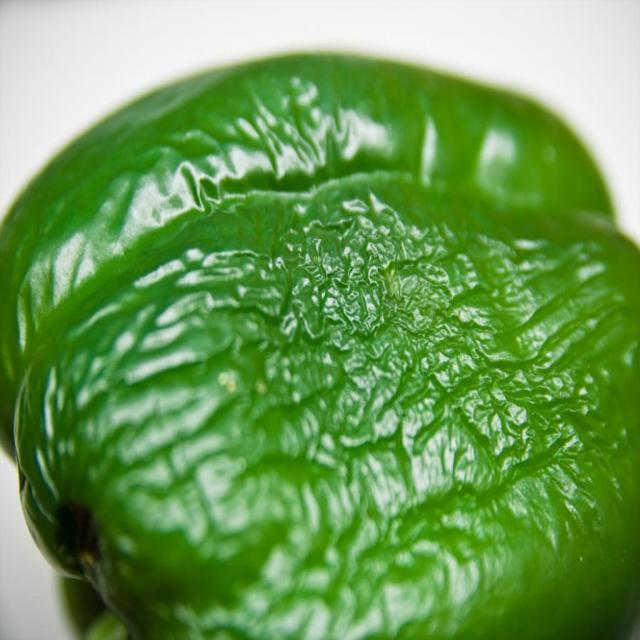Bell pepper: (0, 48, 639, 639)
